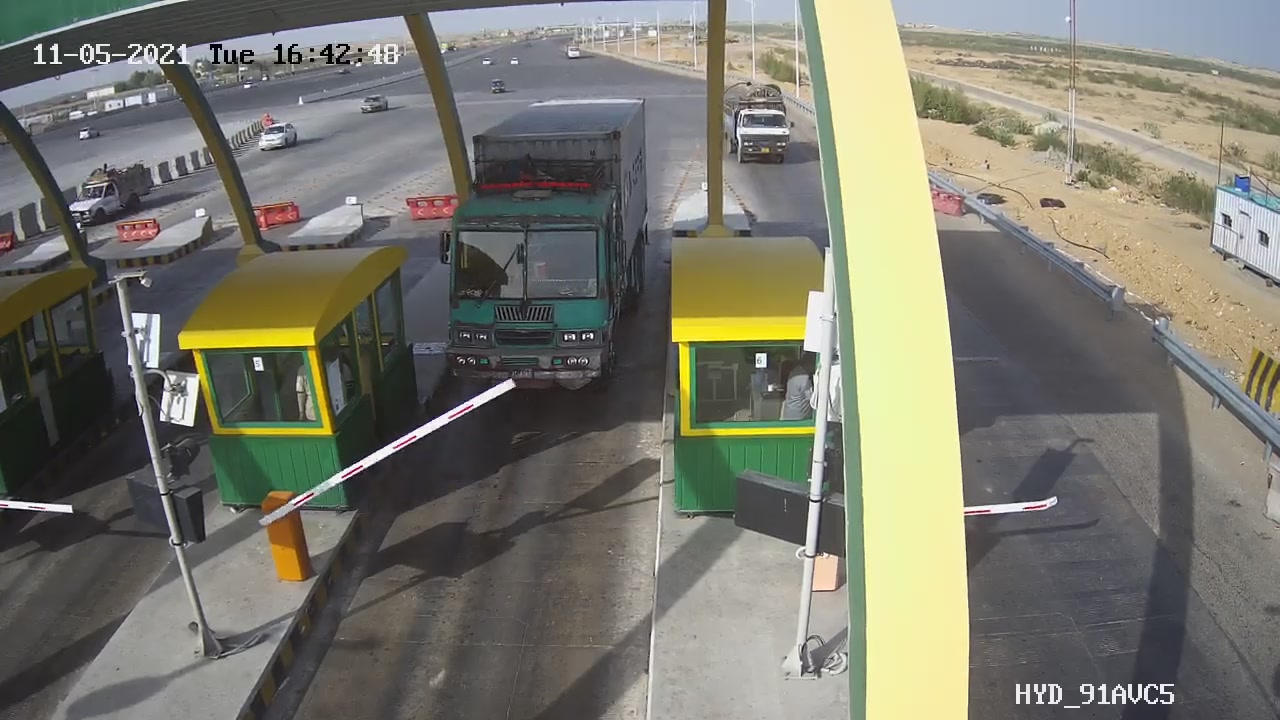F6: (422, 80, 671, 421)
